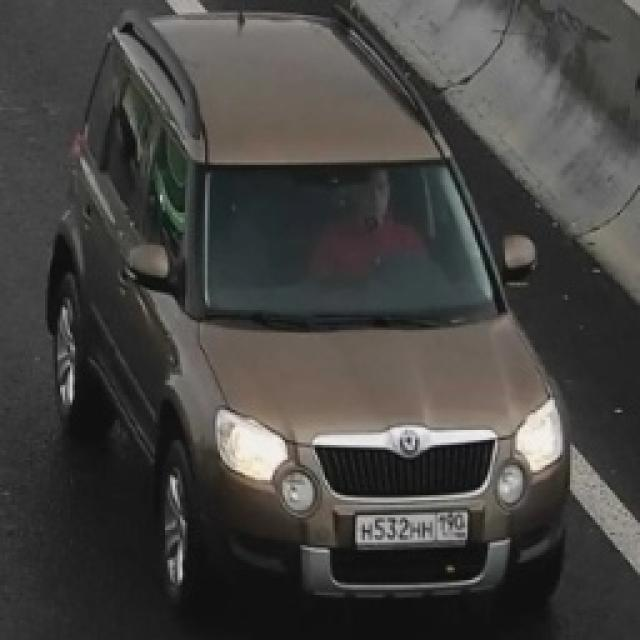windshield: (186, 156, 512, 335)
